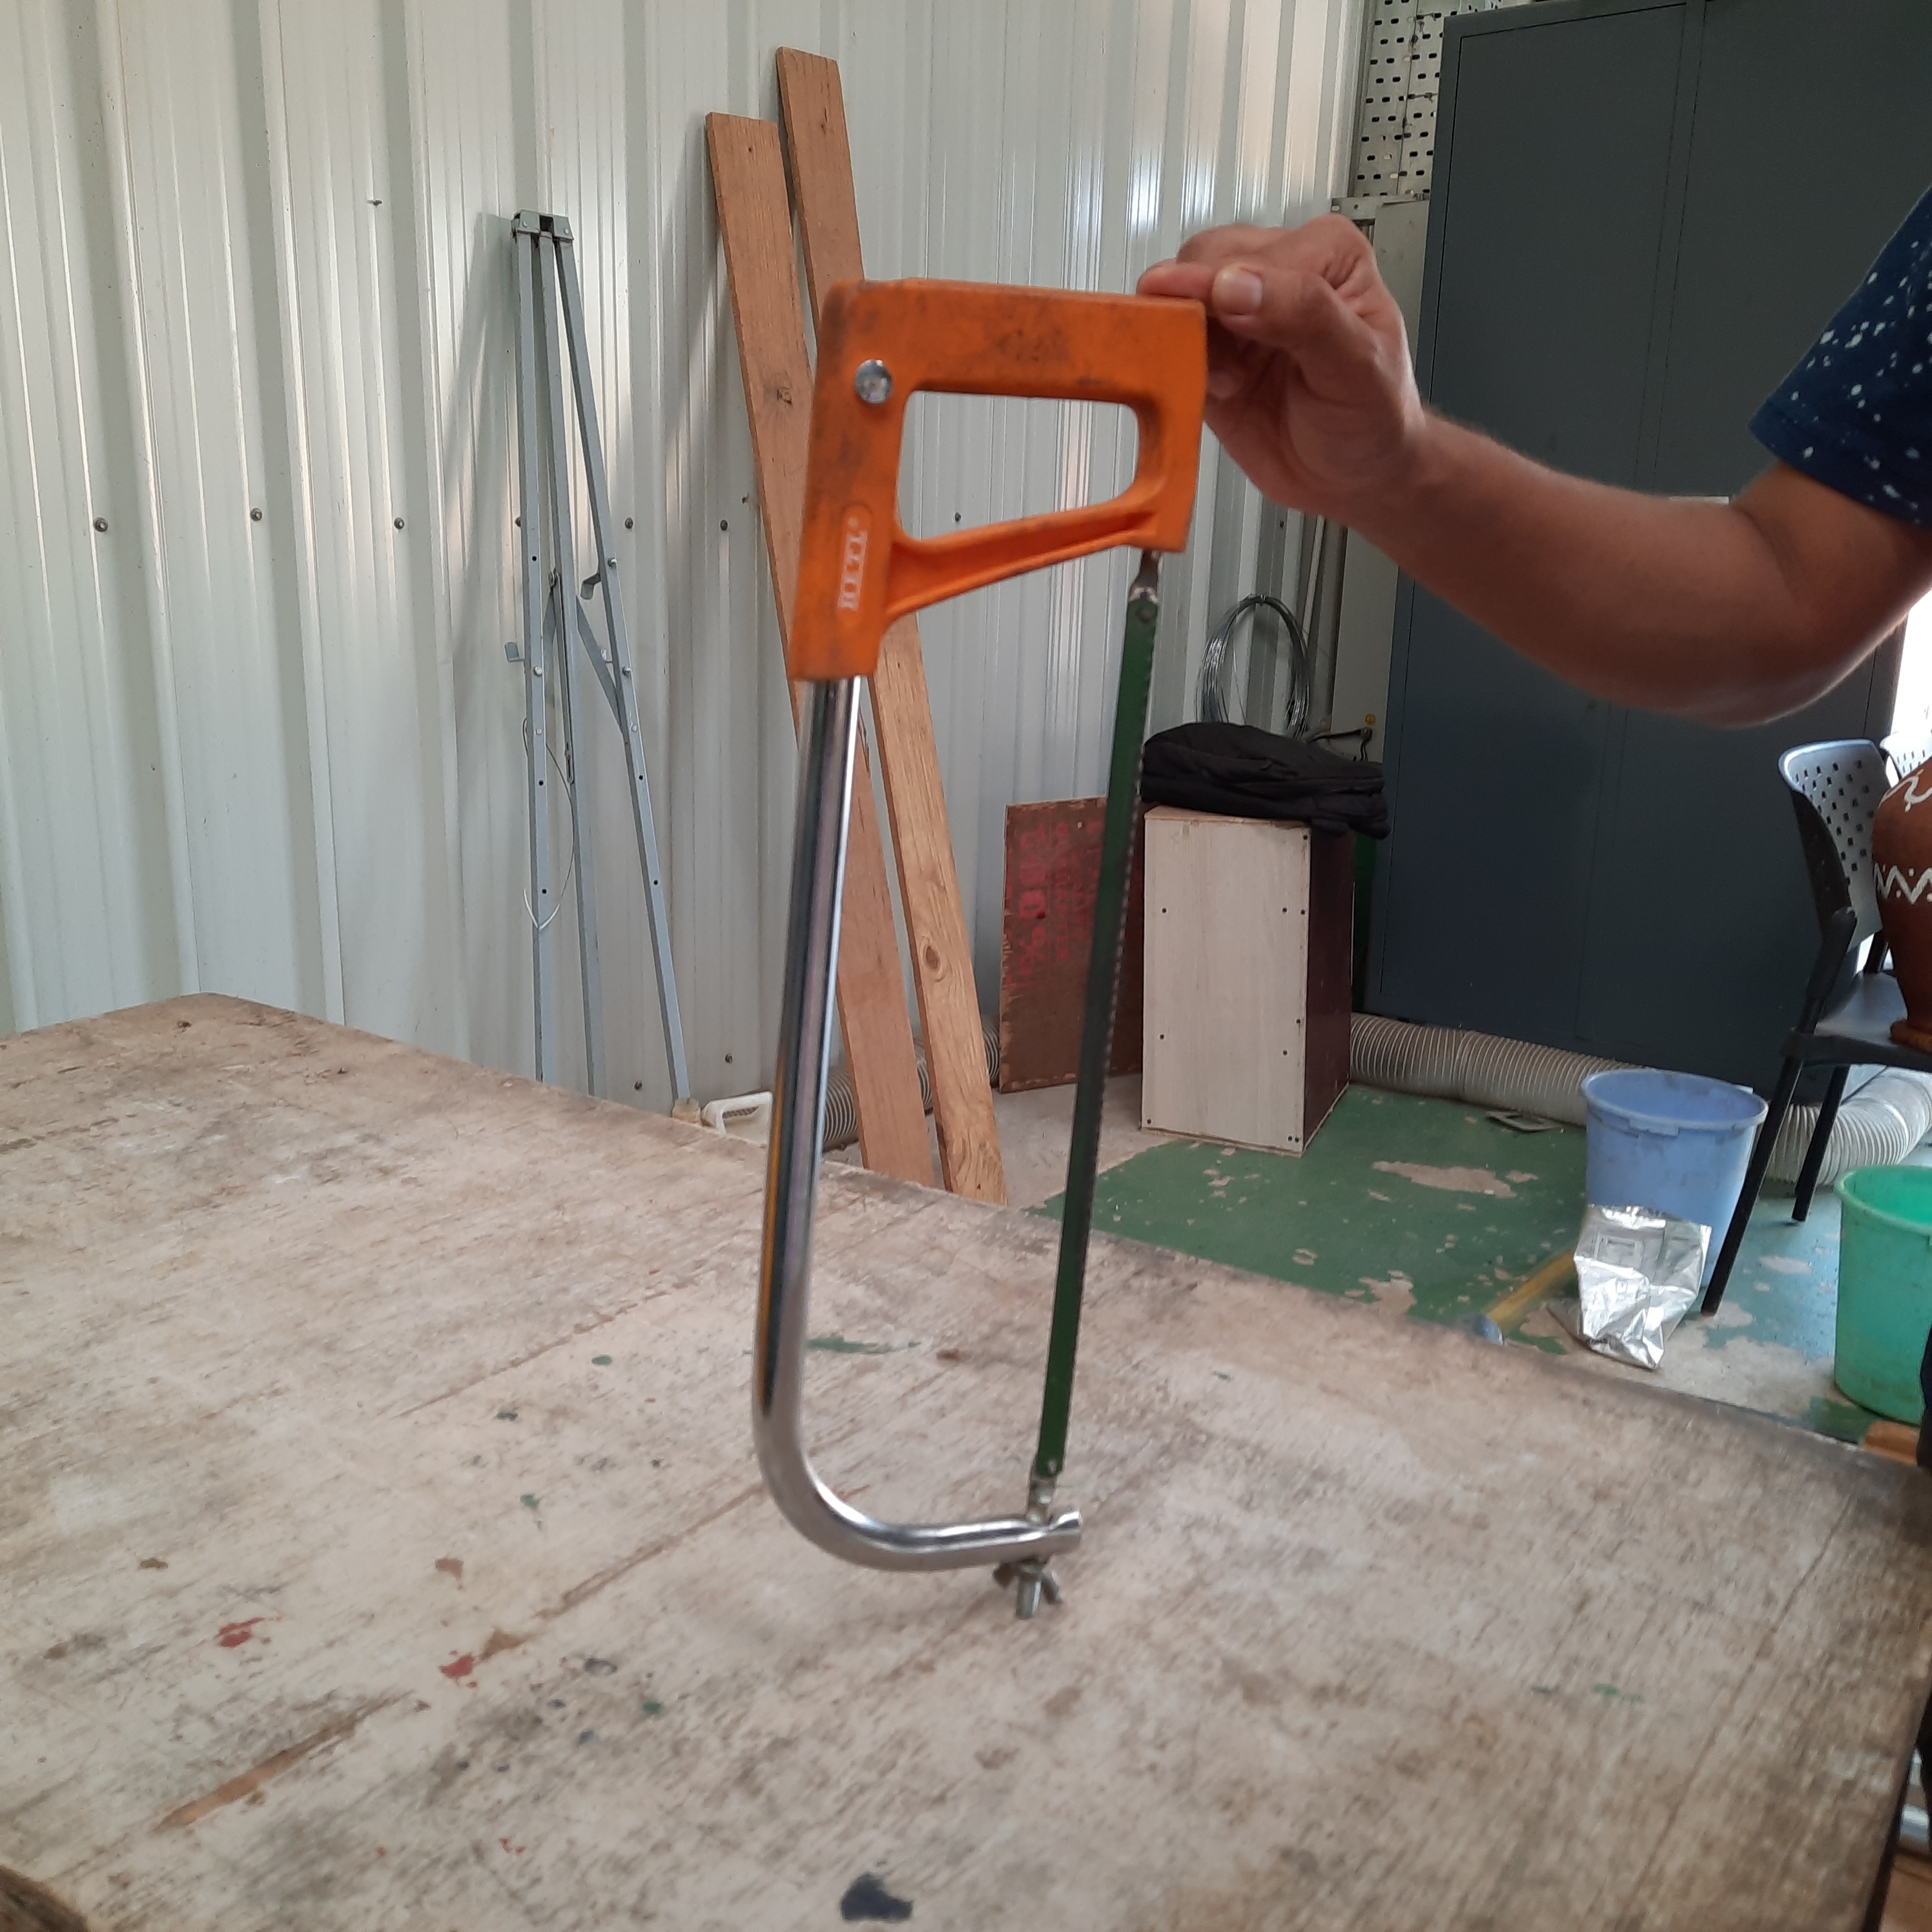Hexaframe: (761, 287, 1240, 1626)
